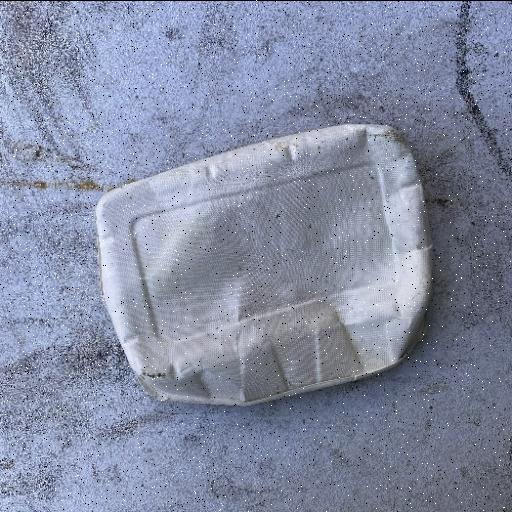Cardboard: (94, 122, 435, 408)
